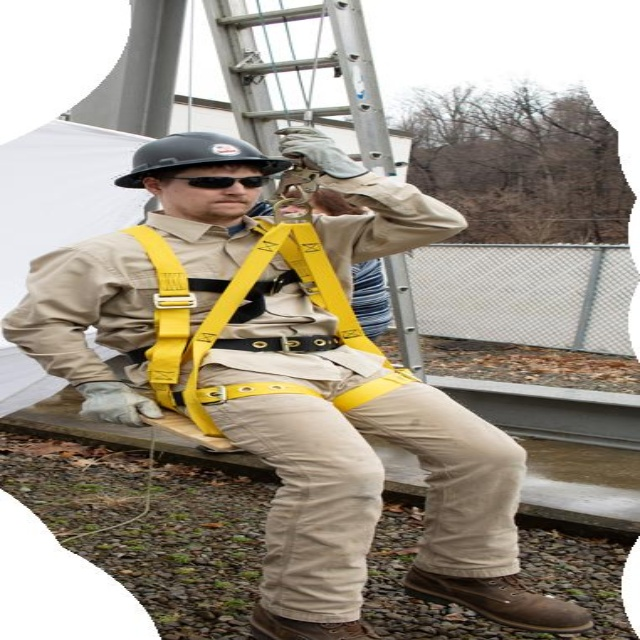Arnes_seguridad: (87, 219, 437, 442)
